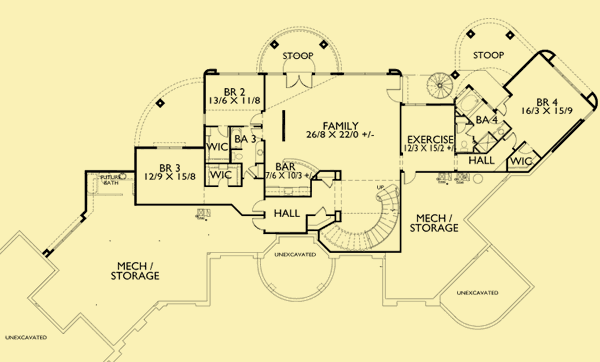door: (284, 71, 314, 91), (386, 87, 404, 104), (401, 169, 418, 186), (249, 198, 266, 213), (251, 216, 266, 231), (216, 124, 231, 138), (505, 132, 518, 148), (248, 112, 263, 125), (518, 142, 532, 154), (250, 127, 264, 139), (455, 122, 468, 134), (497, 102, 508, 116), (242, 170, 254, 179)
large_sink: (231, 150, 245, 162), (459, 138, 469, 152)
stairs: (321, 185, 402, 254), (425, 71, 453, 99)
tub: (458, 92, 480, 113)
windows: (255, 142, 264, 165), (155, 144, 183, 151)
